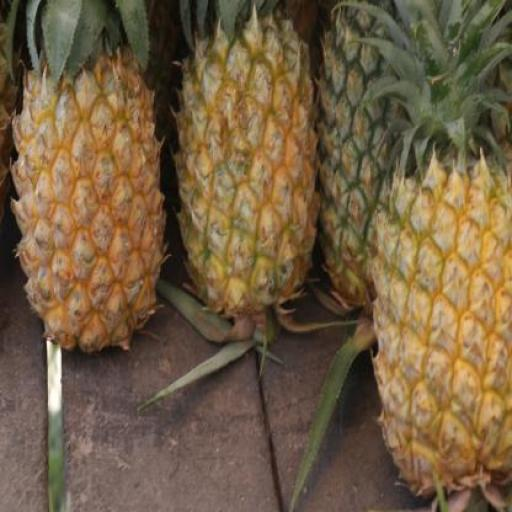------------------------------: (170, 20, 316, 304)
Pineapple - v8 v1: (374, 155, 511, 489), (14, 55, 164, 356)
